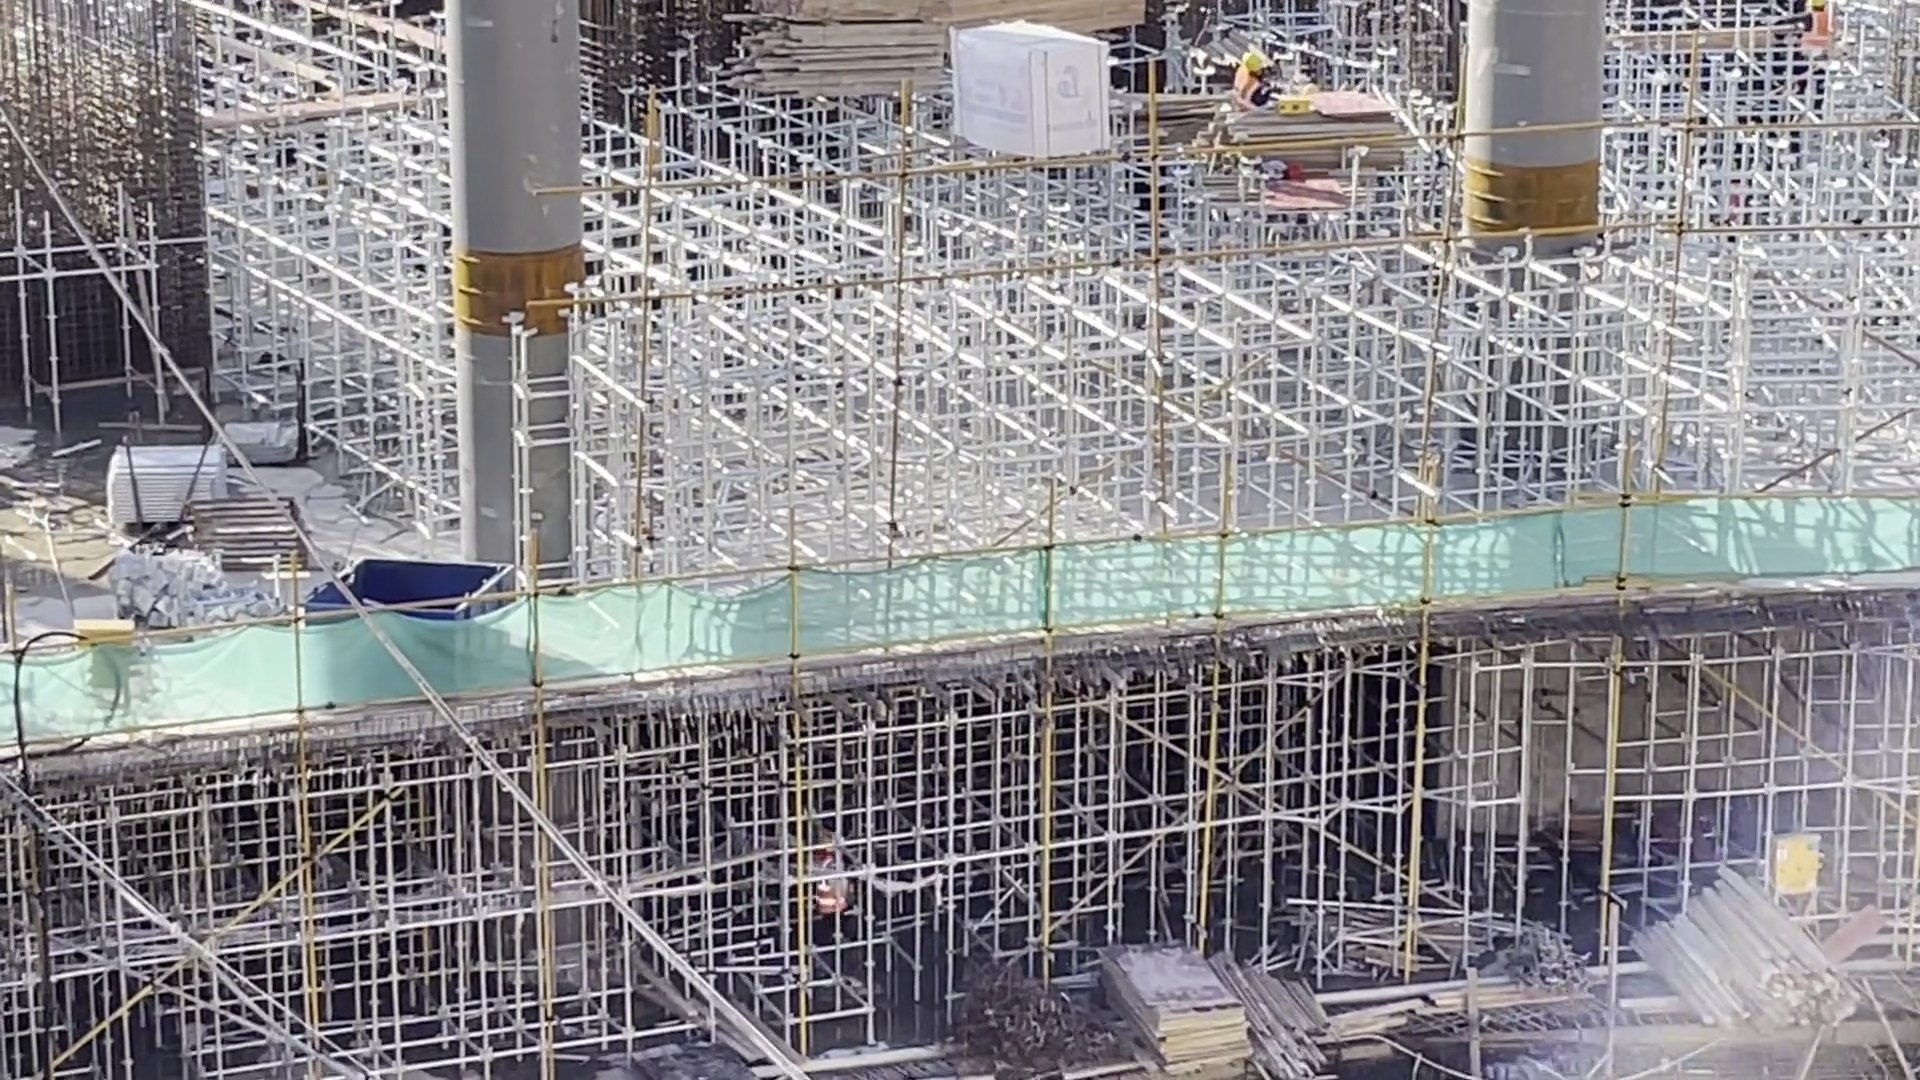board: (1100, 932, 1258, 1079), (1215, 86, 1419, 180)
ebox: (1762, 824, 1822, 904), (73, 611, 140, 645)
helmet: (1241, 52, 1267, 72)
hopper: (293, 557, 524, 595)
person: (1231, 52, 1275, 108)
scaffold: (106, 443, 233, 504)
vest: (1235, 71, 1262, 106)
wood: (1628, 858, 1871, 1037), (722, 4, 952, 102), (1255, 956, 1336, 1080)
